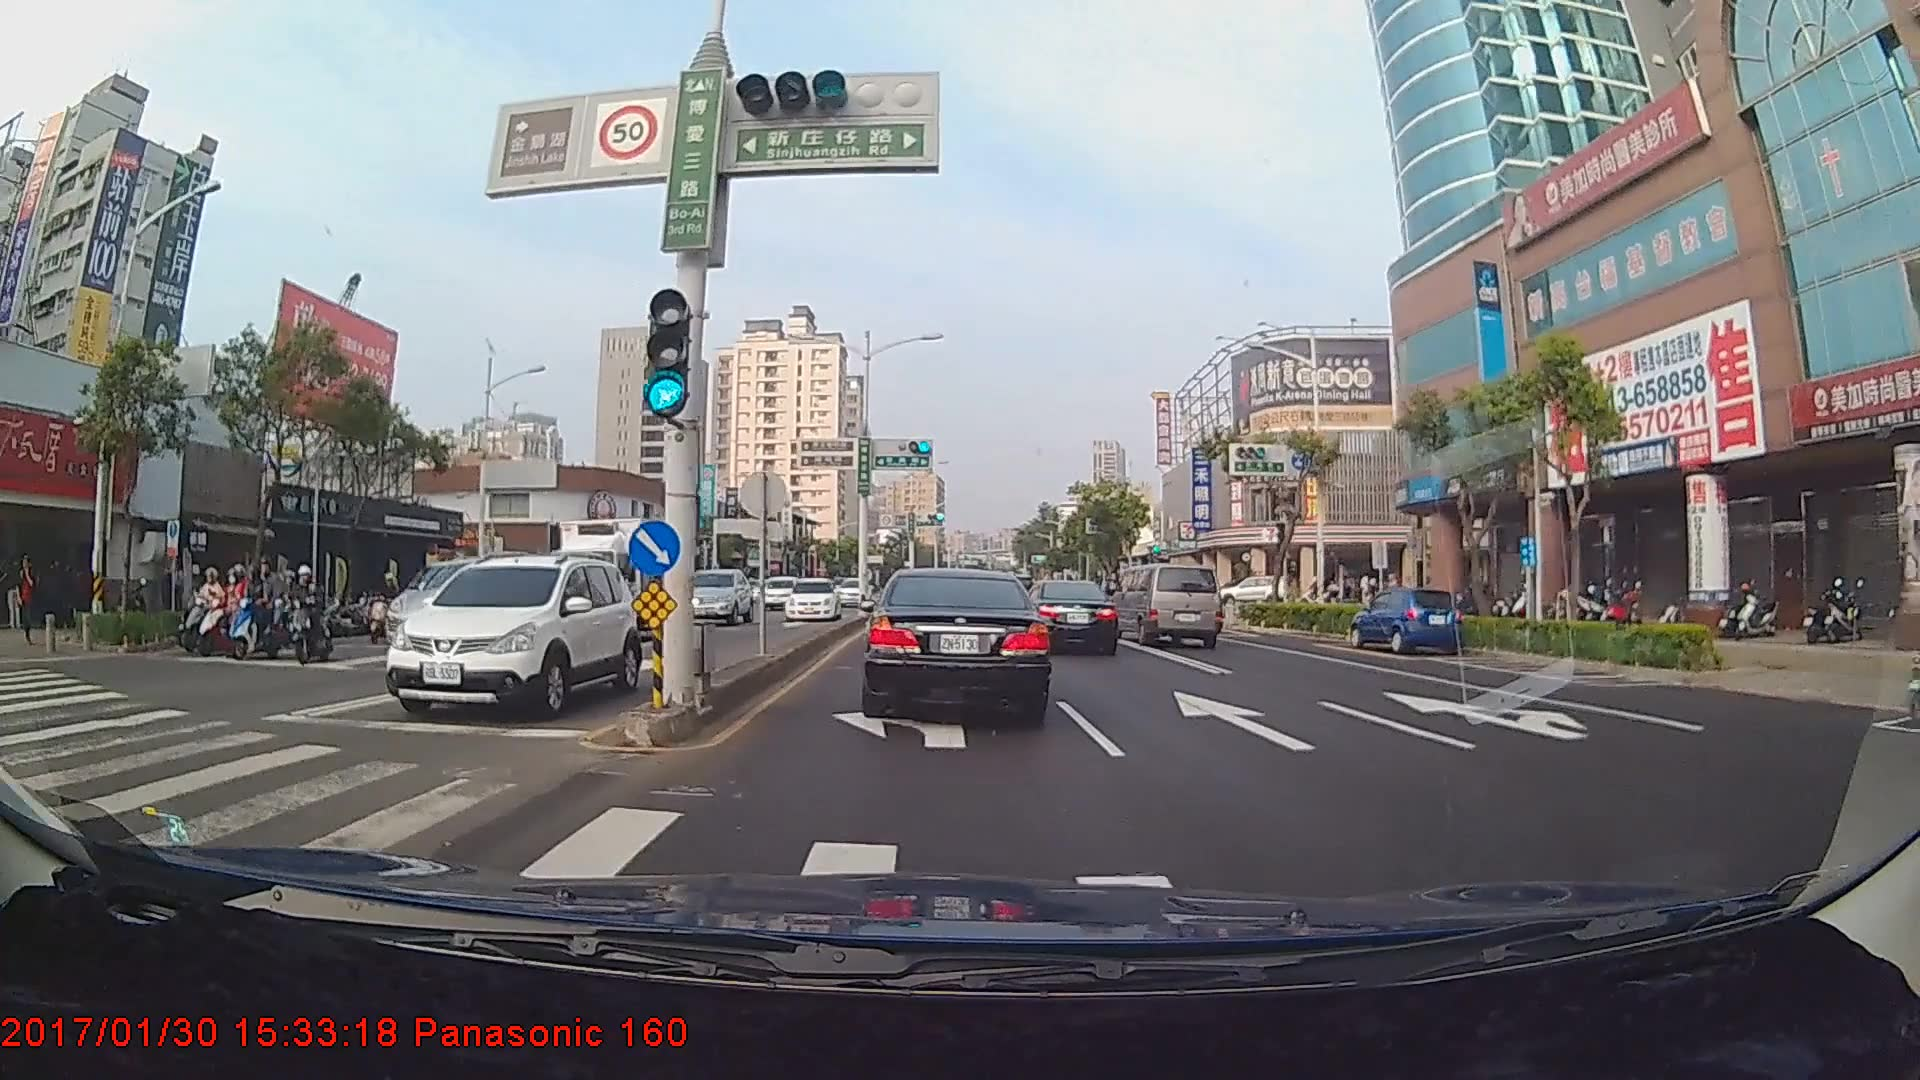pedestrian: (16, 553, 41, 649)
rider: (277, 559, 344, 672), (227, 561, 306, 656), (197, 562, 271, 654), (179, 566, 241, 654)
vehicle: (390, 552, 636, 716), (864, 563, 1050, 723), (543, 514, 689, 653), (396, 550, 557, 669), (1114, 562, 1222, 649), (1017, 572, 1118, 654), (1352, 586, 1462, 655), (679, 562, 750, 624), (780, 574, 838, 620), (1220, 576, 1273, 604), (758, 575, 798, 607), (834, 576, 867, 607)
